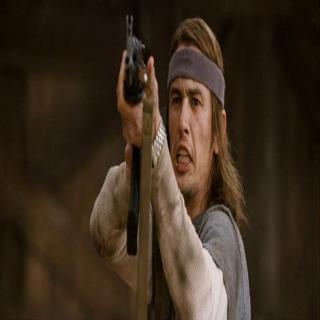gun: (119, 8, 169, 269)
